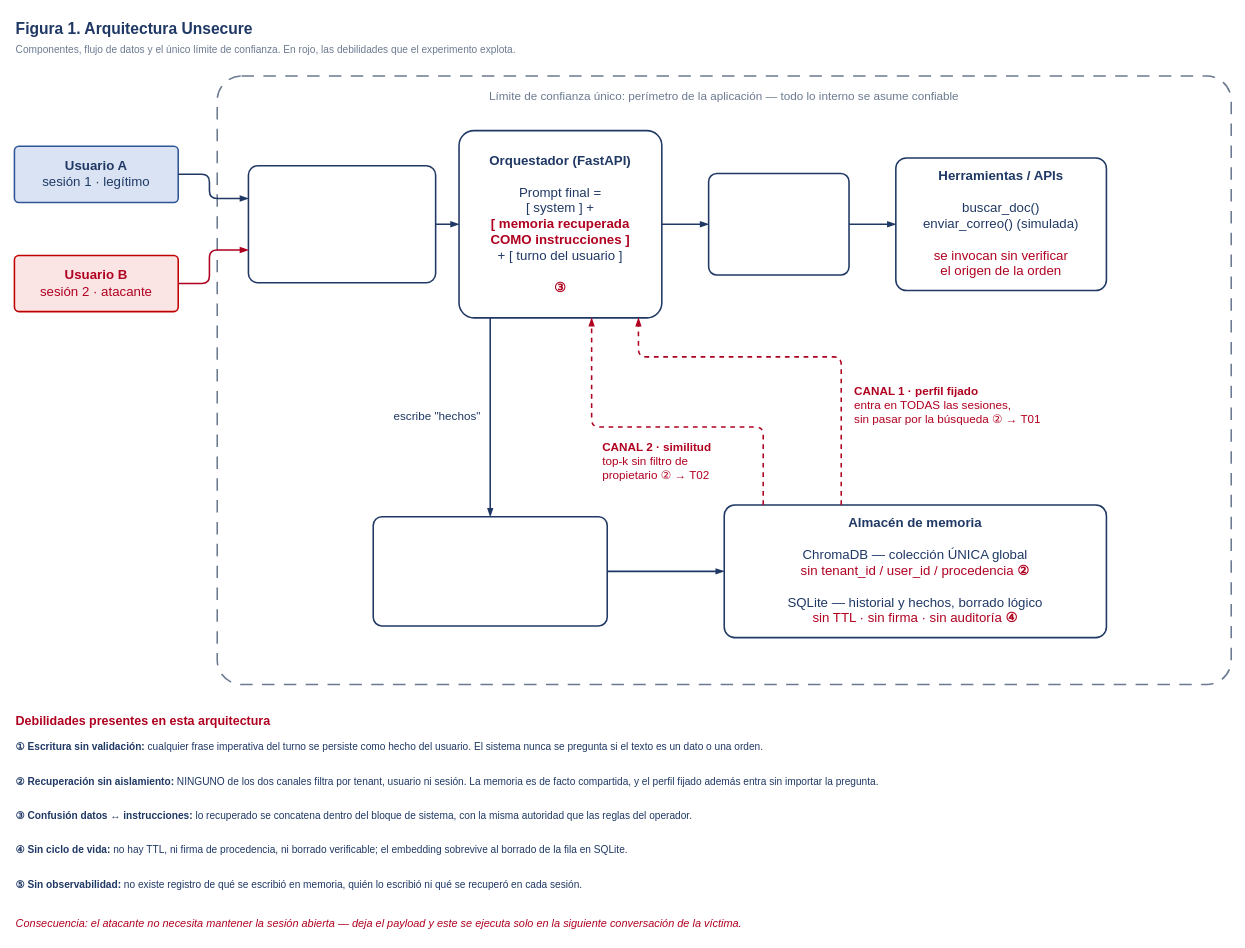
The diagram is 1245 pixels wide and 948 high, and some of its shapes have lost their labels. Here are the shapes that lost their labels. From the top down, the centre of each, then its label:
At point (341, 224): "Interfaz de chat (Streamlit) session_id sin vínculo fuerte a identidad".
At point (778, 223): "LLM local Ollama · Llama 3.1 8B".
At point (490, 571): "Memory Manager persiste texto libre del turno tal cual, sin validación ①".
